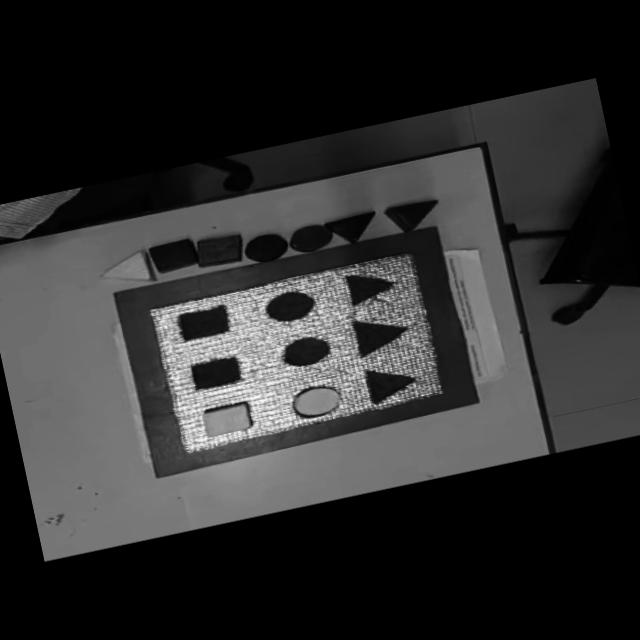bcircle: (243, 231, 290, 266)
bcube: (147, 237, 201, 276)
btriangle: (324, 210, 381, 250)
mtcircle: (263, 288, 317, 326), (280, 333, 333, 370)
mtcube: (175, 304, 232, 343), (188, 354, 244, 392)
mttriangle: (350, 310, 413, 358), (362, 360, 419, 406), (343, 266, 399, 308)
rcircle: (288, 222, 334, 256)
rcube: (193, 232, 247, 270)
rtriangle: (384, 197, 444, 236)
wb: (146, 250, 446, 457)
ycircle: (288, 381, 344, 421)
ycube: (200, 401, 253, 438)
ytriangle: (97, 248, 157, 292)
